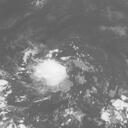cyclone: (34, 59, 68, 90)
